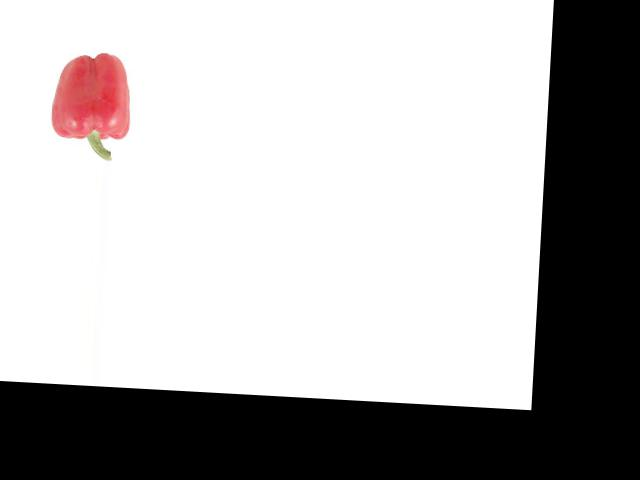bell_pepper: (37, 49, 137, 161)
